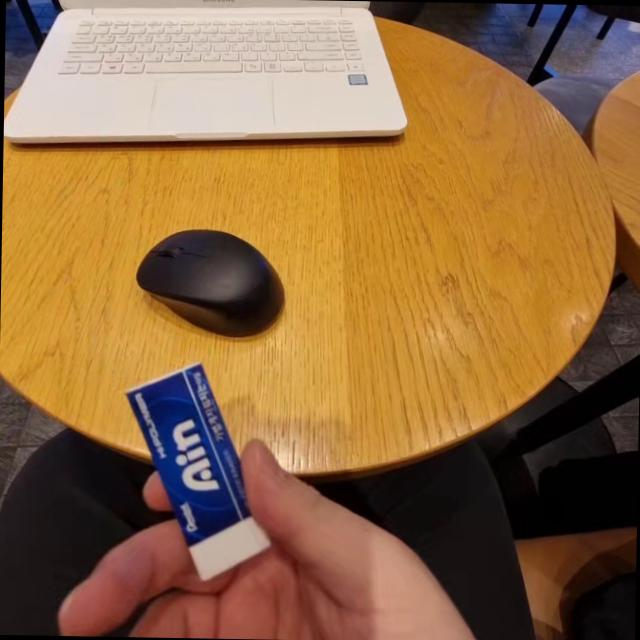eraser: (103, 379, 290, 562)
grab_eraser: (63, 368, 514, 640)
mouse: (128, 224, 300, 332)
